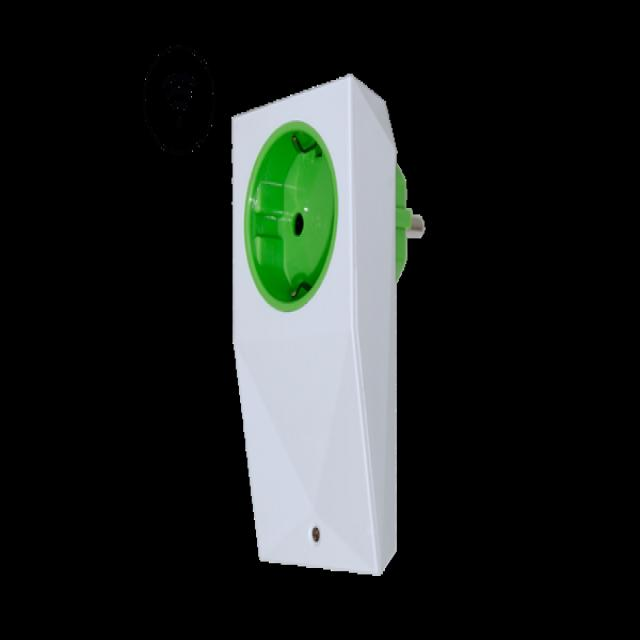typeb: (227, 92, 442, 420)
